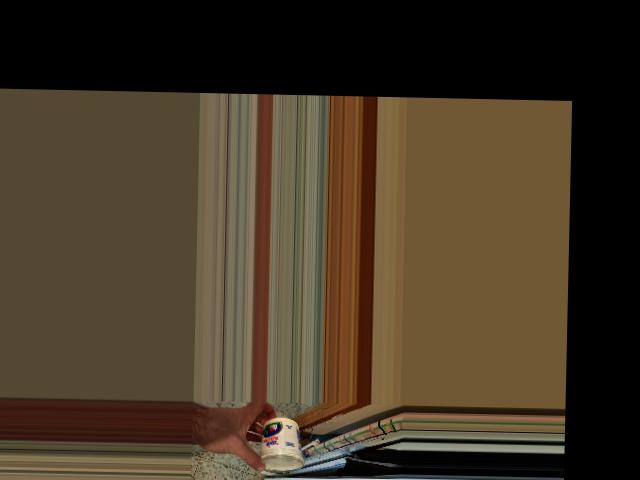cotage: (256, 414, 305, 471)
